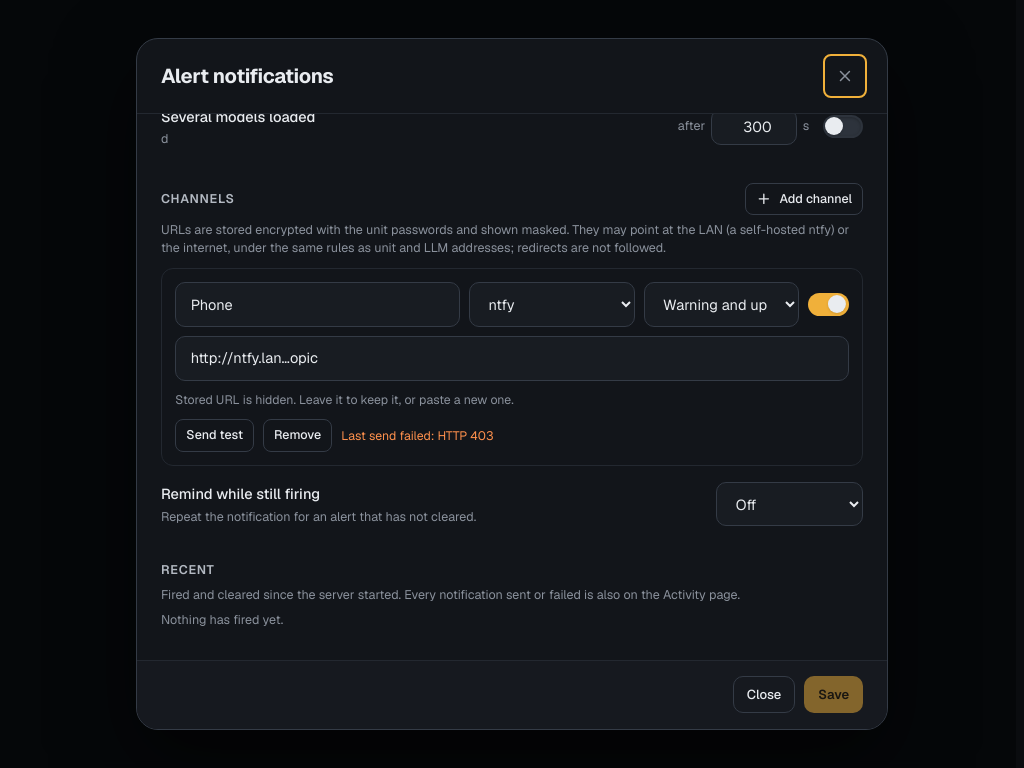
Test: AlertsDialog › Send test shows the server's result: a status code, nothing more
(page scrolled)
Click the button "Send test": x=215, y=436 175,419 -> 254,452
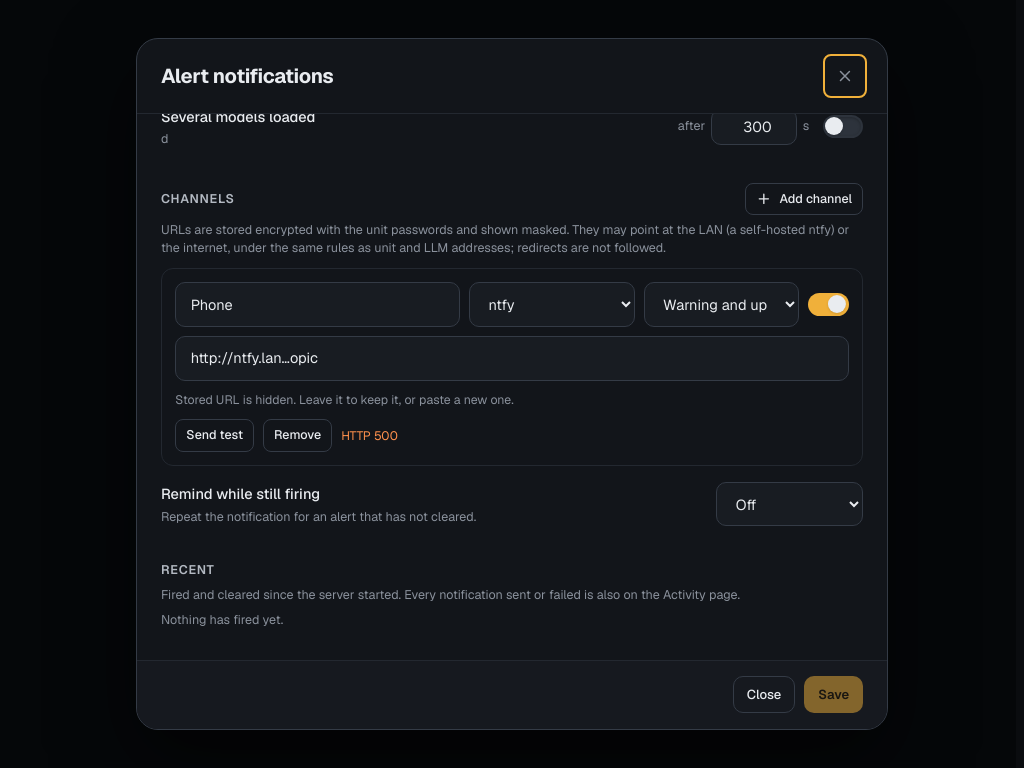
Now the message with class "field-hint" reads "HTTP 500", box 341,428 -> 398,444
